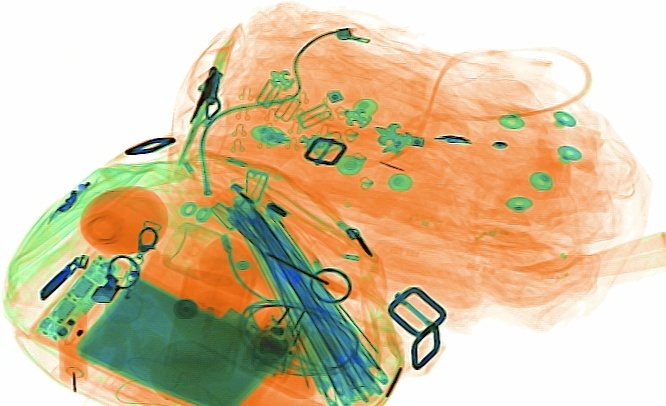pressure: (160, 220, 314, 308)
